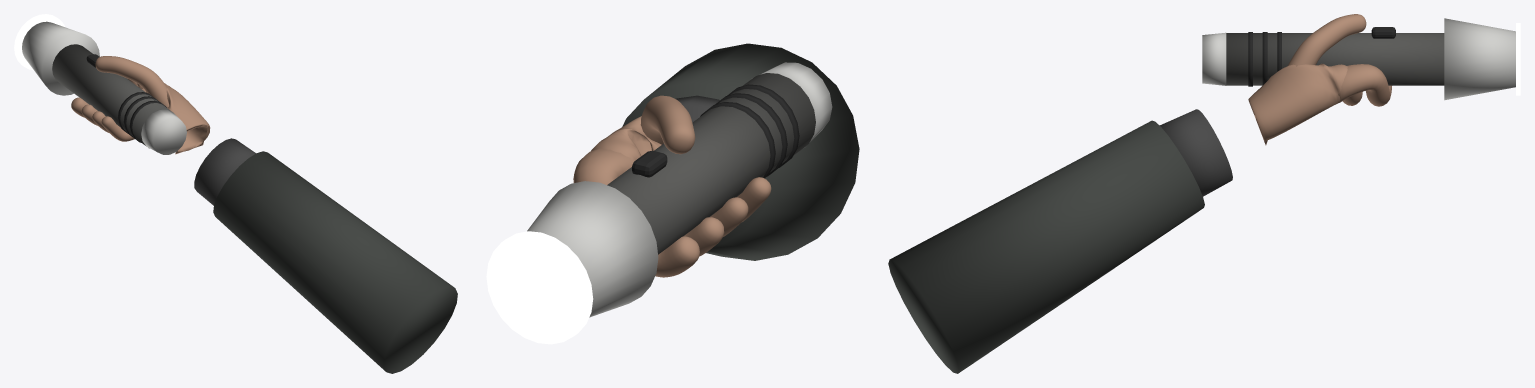
Rendered from hand_flashlight.glb.
The picture shows the model from 3 angles, left to right: view 1: azimuth 30°, elevation 25°; view 2: azimuth 150°, elevation 25°; view 3: azimuth 270°, elevation 25°; orthographic projection. The views are drawn at different scales.
Parts seen in each view (by area): view 1: sleeve, body, hand, head, cuff, cap, lens; view 2: sleeve, body, head, lens, hand, cap, grip, grip.001, switch, grip.002, cuff; view 3: sleeve, hand, body, head, cuff, cap.
Boxes of the visible parts, x1,y1,x2,y2 form: sleeve: (213,151,457,373); body: (52,44,171,148); hand: (71,56,210,154); head: (22,21,99,95); cuff: (194,138,255,205); cap: (141,109,186,154); lens: (14,14,64,70); sleeve: (622,43,859,260); body: (607,73,815,254); head: (527,181,658,317); lens: (486,231,593,344); hand: (573,95,771,277); cap: (752,62,832,148); grip: (727,84,799,167); grip.001: (715,93,787,176); switch: (632,151,667,177); grip.002: (700,102,775,178); cuff: (676,95,719,122); sleeve: (888,120,1204,373); hand: (1248,14,1391,145); body: (1226,33,1444,85); head: (1444,18,1515,100); cuff: (1160,109,1232,196); cap: (1202,32,1226,85).
Bounding box in the file's own units: 0.2453 × 0.2507 × 0.5222.
